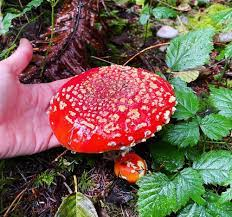Amanita muscaria: (45, 56, 179, 155)
